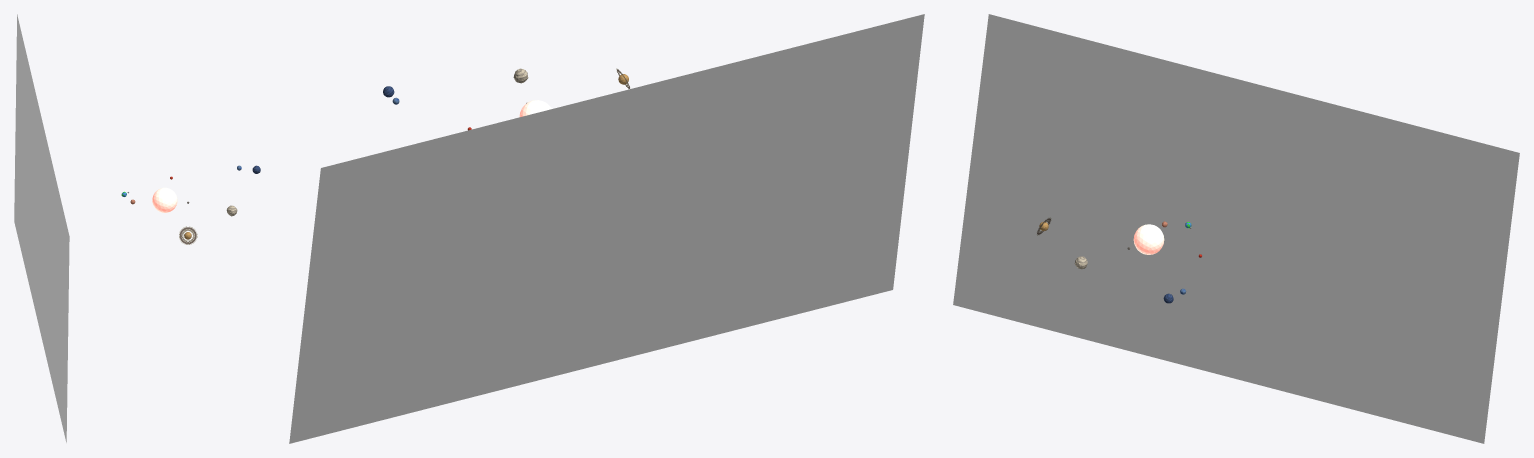
Rendered from solar.glb.
The picture shows the model from 3 angles, left to right: view 1: azimuth 30°, elevation 25°; view 2: azimuth 150°, elevation 25°; view 3: azimuth 270°, elevation 25°; orthographic projection. The views are drawn at different scales.
Visible parts, largest first — view 1: Space, Sun; view 2: Space; view 3: Space, Sun.
Boxes of the visible parts, x1=… form: Space: x1=14, y1=14, x2=69, y2=442; Sun: x1=152, y1=187, x2=177, y2=212; Space: x1=289, y1=14, x2=924, y2=443; Space: x1=953, y1=14, x2=1519, y2=443; Sun: x1=1133, y1=224, x2=1164, y2=254.
Size of the model in its own units: 138 by 93.46 by 174.
